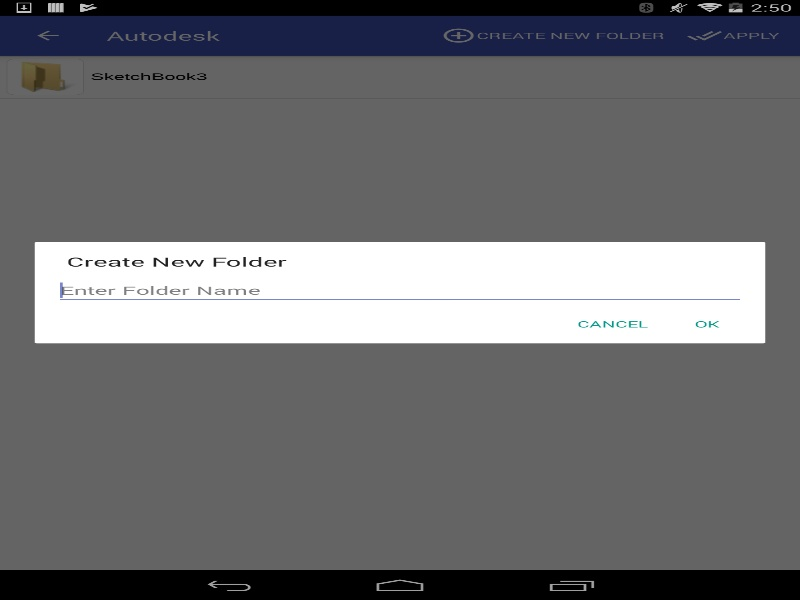Button: (561, 307, 664, 340), (664, 307, 749, 340)
Input: (54, 276, 745, 304)
